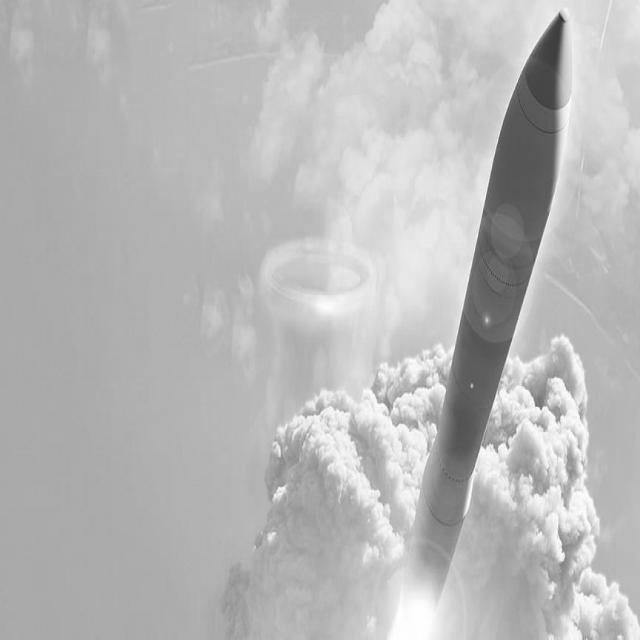missile: (401, 6, 578, 619)
